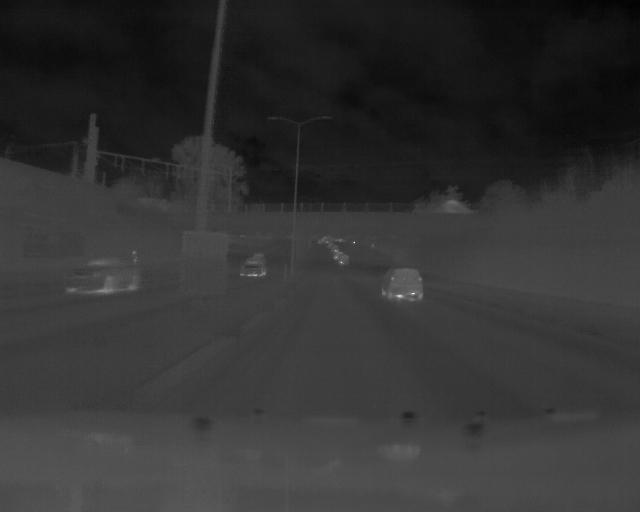car: (63, 255, 146, 295), (379, 264, 429, 305), (240, 256, 268, 279)
